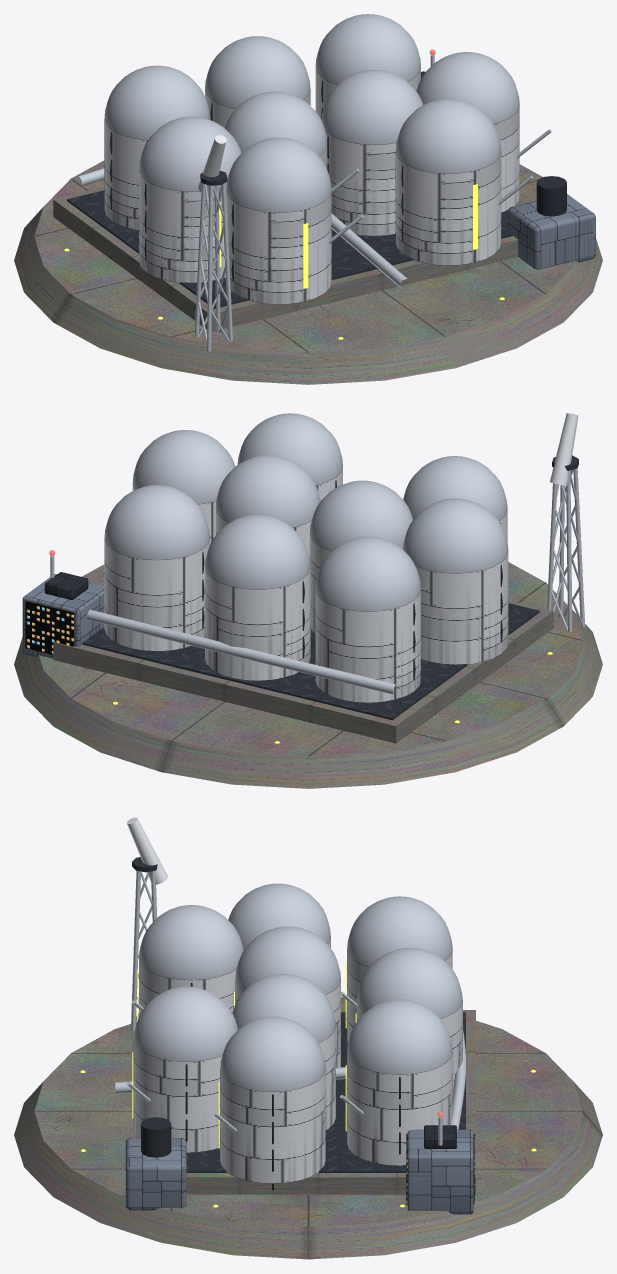
File: tankfarm-T4.glb
3 views of the same model, one above another, from view 1: azimuth 30°, elevation 25°; view 2: azimuth 150°, elevation 25°; view 3: azimuth 270°, elevation 25° (orthographic).
Parts seen in each view (by area): view 1: object 1, object 70, object 63, object 12, object 64, object 71, object 35, object 49, object 50, object 22, object 15, object 29 (+12 smaller); view 2: object 1, object 12, object 14, object 21, object 28, object 35, object 13, object 22, object 29, object 15, object 36, object 50 (+10 smaller); view 3: object 1, object 56, object 28, object 70, object 57, object 29, object 64, object 71, object 12, object 15, object 22, object 116 (+14 smaller).
Part boxes in pixels (x1,y1,x2,y2): object 1: (14, 160, 602, 384); object 70: (395, 152, 501, 265); object 63: (226, 191, 331, 304); object 12: (53, 187, 518, 331); object 64: (226, 137, 331, 212); object 71: (395, 98, 501, 173); object 35: (139, 170, 226, 282); object 49: (325, 131, 396, 235); object 50: (321, 69, 423, 144); object 22: (205, 36, 310, 108); object 15: (104, 65, 209, 139); object 29: (315, 14, 420, 84); object 1: (14, 562, 602, 788); object 12: (53, 600, 553, 743); object 14: (315, 590, 420, 702); object 21: (205, 567, 310, 680); object 28: (104, 538, 209, 651); object 35: (415, 552, 508, 664); object 13: (82, 603, 539, 720); object 22: (205, 514, 310, 589); object 29: (104, 485, 209, 559); object 15: (315, 536, 420, 611); object 36: (403, 498, 508, 573); object 50: (215, 455, 320, 527); object 1: (14, 997, 602, 1259); object 56: (220, 1069, 325, 1183); object 28: (347, 1052, 452, 1165); object 70: (133, 1039, 222, 1152); object 57: (220, 1016, 325, 1091); object 29: (347, 999, 452, 1074); object 64: (139, 905, 243, 979); object 71: (134, 986, 238, 1061); object 12: (186, 1010, 475, 1194); object 15: (347, 896, 452, 966); object 22: (357, 948, 462, 1018); object 116: (407, 1129, 473, 1214).
Bounding box in the file's own units: 5.8 × 2.51 × 5.8.
13 materials, 7 textured.
